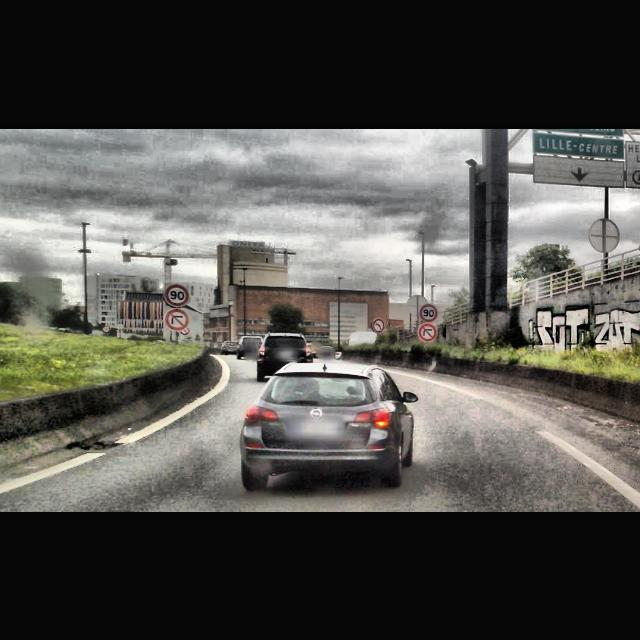speed_90: (164, 284, 190, 306), (419, 303, 437, 321)
